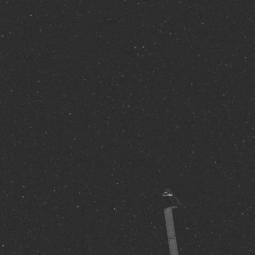earth_observation_sat_1: (149, 168, 204, 255)
